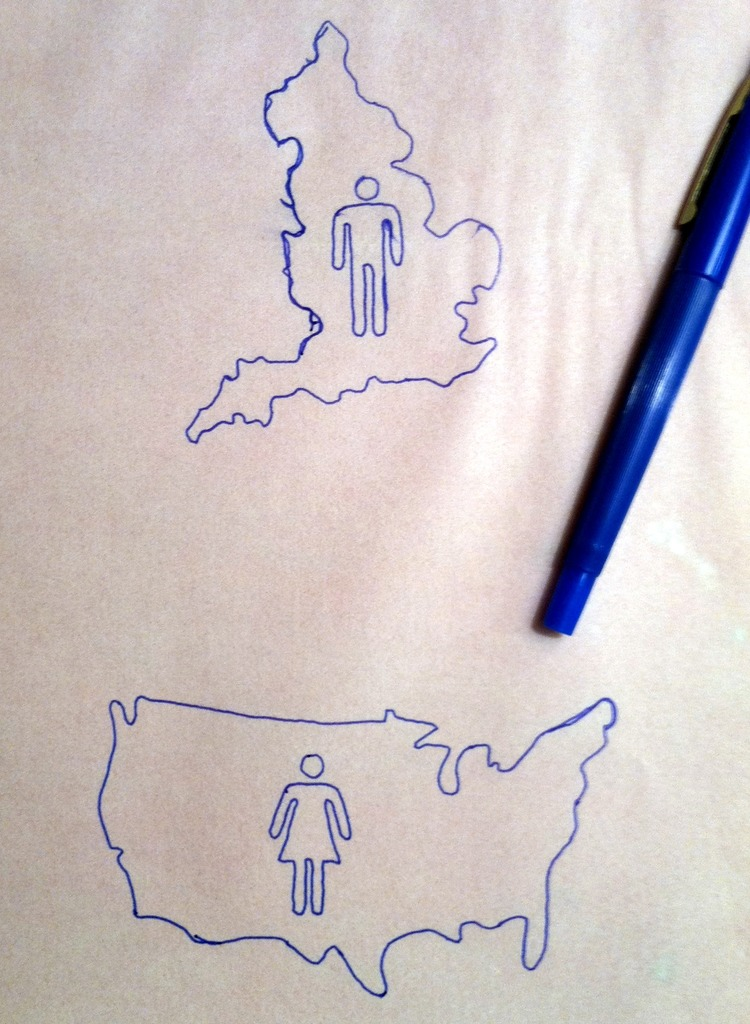Pen: (549, 70, 749, 652)
